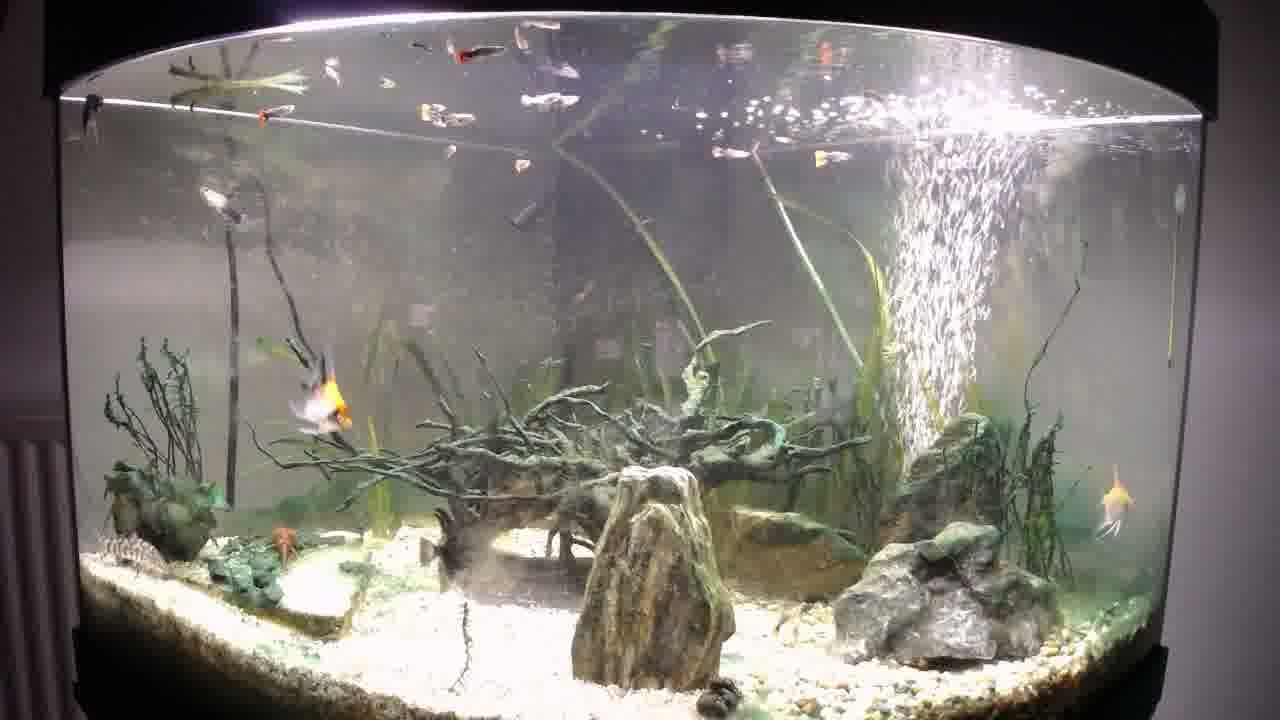Ancistrus: (257, 518, 313, 578)
Botia_Almorhae: (93, 531, 177, 578)
G_Matriarche: (189, 178, 258, 237)
Pterophyllum_Scalare_B: (410, 506, 482, 593)
Pterophyllum_Scalare_BB: (75, 89, 113, 151)
Pterophyllum_Scalare_Y: (1092, 460, 1139, 542)
Pterophyllum_Scalare_YWB: (292, 349, 357, 445)
